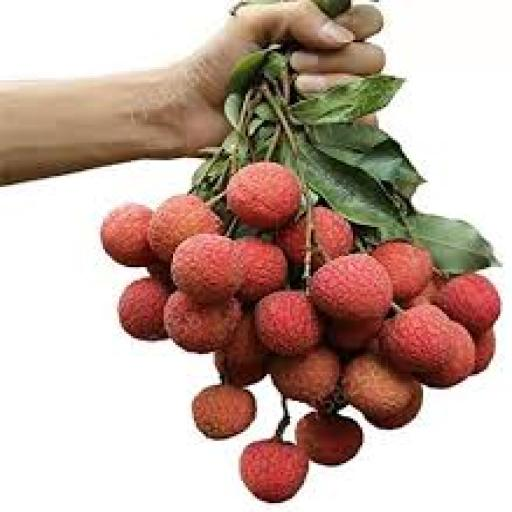lychee: (311, 254, 392, 322), (382, 305, 460, 373), (342, 354, 420, 420), (171, 234, 243, 304), (148, 194, 222, 262), (227, 163, 301, 229), (164, 292, 240, 353), (239, 439, 308, 503), (255, 292, 322, 356), (269, 348, 341, 405), (216, 312, 268, 387), (435, 274, 500, 333), (372, 241, 432, 302), (419, 323, 474, 389), (295, 412, 362, 465), (101, 203, 156, 267), (192, 386, 257, 440), (237, 236, 287, 302), (120, 279, 168, 340), (365, 386, 423, 429), (314, 208, 353, 267), (330, 319, 383, 351), (403, 274, 446, 309), (473, 330, 495, 373), (148, 261, 175, 291)
